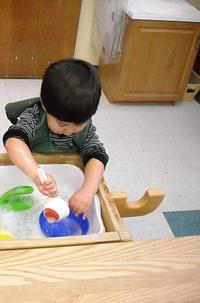person: (3, 60, 109, 221)
